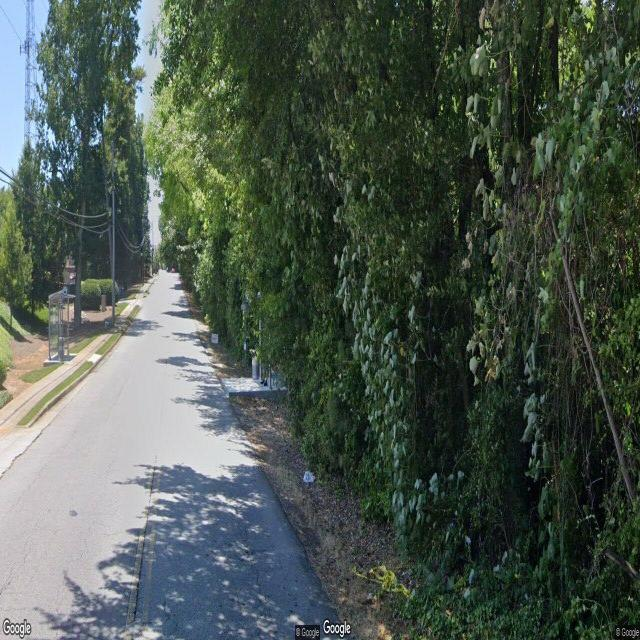shelter: (46, 290, 76, 364)
trash_can: (252, 357, 260, 380), (58, 337, 64, 362)
